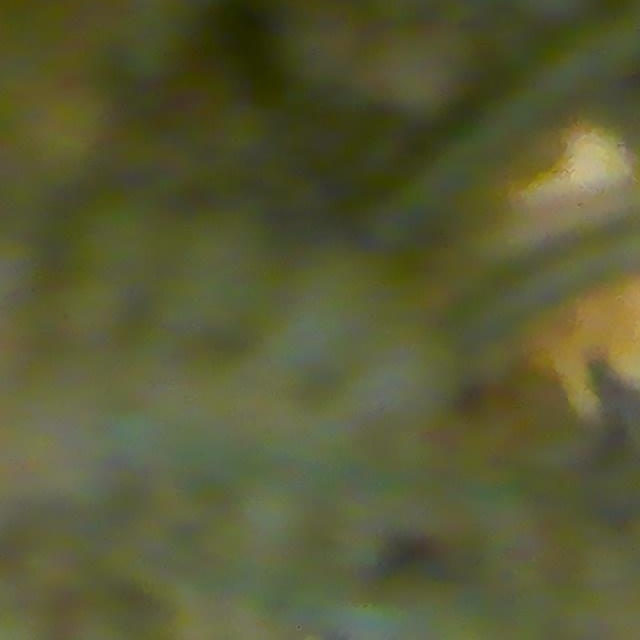SeaGrape: (279, 249, 379, 363), (168, 227, 259, 335), (64, 211, 163, 303), (354, 338, 454, 428)
